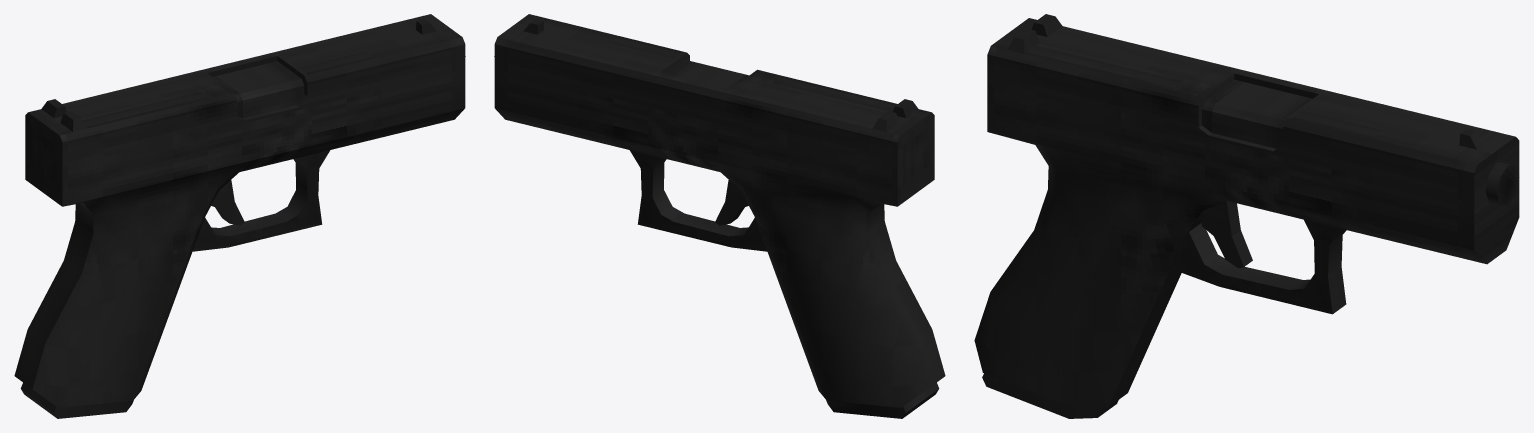
The model's file is shop-item-1056.glb.
3 views of the same model, side by side, from view 1: azimuth 30°, elevation 25°; view 2: azimuth 150°, elevation 25°; view 3: azimuth 330°, elevation 25° (orthographic). The views are drawn at different scales.
Parts seen in each view (by area): view 1: pistol_mp_1, pistol_mp_1_slide, pistol_mp_1_mag_initial, pistol_mp_1_trigger; view 2: pistol_mp_1, pistol_mp_1_slide, pistol_mp_1_mag_initial, pistol_mp_1_trigger; view 3: pistol_mp_1, pistol_mp_1_slide, pistol_mp_1_trigger, pistol_mp_1_mag_initial.
Boxes of the visible parts, x1,y1,x2,y2 form: pistol_mp_1: (14, 56, 465, 407); pistol_mp_1_slide: (25, 14, 465, 185); pistol_mp_1_mag_initial: (20, 382, 133, 418); pistol_mp_1_trigger: (211, 180, 244, 225); pistol_mp_1: (494, 56, 945, 407); pistol_mp_1_slide: (494, 14, 934, 185); pistol_mp_1_mag_initial: (826, 382, 939, 418); pistol_mp_1_trigger: (715, 180, 748, 225); pistol_mp_1: (974, 79, 1519, 407); pistol_mp_1_slide: (987, 14, 1519, 225); pistol_mp_1_trigger: (1201, 201, 1252, 268); pistol_mp_1_mag_initial: (982, 373, 1118, 418).
Size of the model in its own units: 0.2691 by 0.1802 by 0.04.
Materials: 2 (2 with a texture image).
